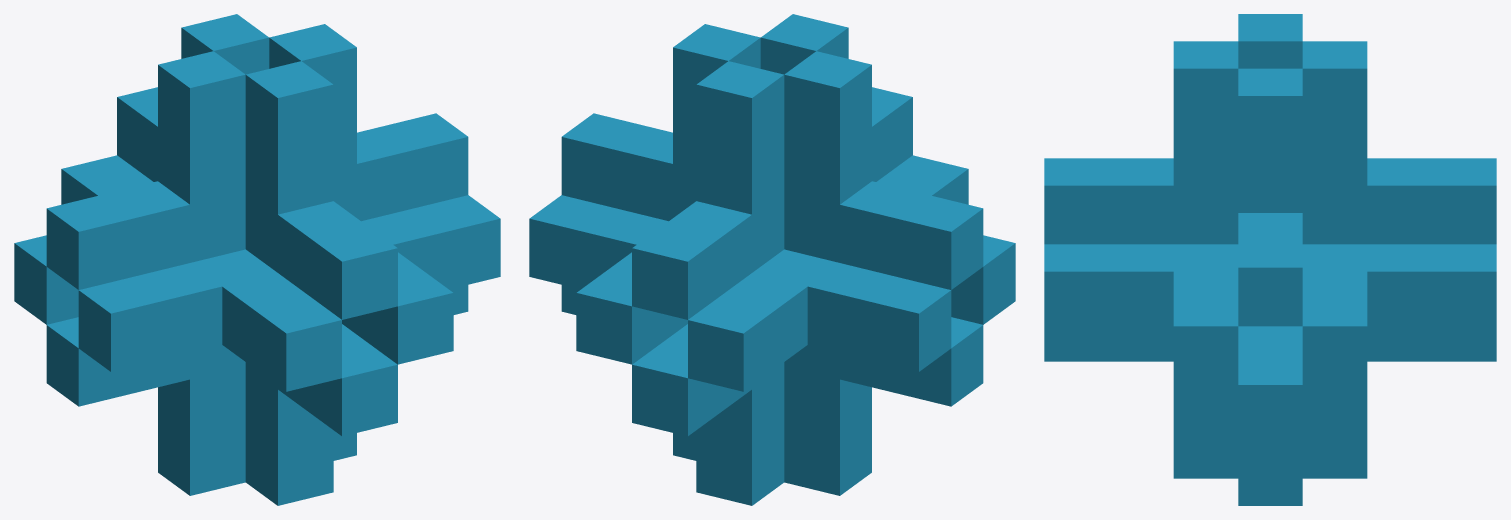
3 views of the same model, side by side, from view 1: azimuth 30°, elevation 25°; view 2: azimuth 150°, elevation 25°; view 3: azimuth 270°, elevation 25° (orthographic).
Visible parts, largest first — view 1: Cube_4, Cube_3_2, Cube_4_9, Cube_6, Cube_3_10, Cube_6_3, Cube_6_4, Cube_6_2, Cube_4_4, Cube_4_8, Cube_3_5, Cube_3_9 (+27 smaller); view 2: Cube_2, Cube_3_2, Cube_2_9, Cube_0, Cube_3_10, Cube_0_3, Cube_0_4, Cube_0_2, Cube_2_4, Cube_2_8, Cube_3_5, Cube_3_9 (+27 smaller); view 3: Cube_2_9, Cube_4_9, Cube_2_12, Cube_4_12, Cube_0_3, Cube_1_3, Cube_5_3, Cube_6_3, Cube_0_4, Cube_1_4, Cube_5_4, Cube_6_4 (+24 smaller).
Part boxes in pixels (x1,y1,x2,y2): Cube_4: [78, 276, 166, 371]; Cube_3_2: [46, 195, 134, 289]; Cube_4_9: [245, 61, 333, 156]; Cube_6: [254, 296, 341, 391]; Cube_3_10: [158, 51, 245, 146]; Cube_6_3: [310, 224, 397, 319]; Cube_6_4: [365, 269, 453, 364]; Cube_6_2: [310, 341, 397, 436]; Cube_4_4: [245, 424, 333, 505]; Cube_4_8: [245, 133, 333, 214]; Cube_3_5: [158, 414, 245, 495]; Cube_3_9: [158, 123, 245, 204]; Cube_2: [863, 276, 951, 371]; Cube_3_2: [895, 195, 983, 289]; Cube_2_9: [696, 61, 784, 156]; Cube_0: [688, 296, 775, 391]; Cube_3_10: [784, 51, 871, 146]; Cube_0_3: [632, 224, 719, 319]; Cube_0_4: [576, 269, 664, 364]; Cube_0_2: [632, 341, 719, 436]; Cube_2_4: [696, 424, 784, 505]; Cube_2_8: [696, 133, 784, 214]; Cube_3_5: [784, 414, 871, 495]; Cube_3_9: [784, 123, 871, 204]; Cube_2_9: [1302, 41, 1367, 127]; Cube_4_9: [1173, 41, 1238, 127]; Cube_2_12: [1302, 299, 1367, 384]; Cube_4_12: [1173, 299, 1238, 384]; Cube_0_3: [1432, 158, 1496, 244]; Cube_1_3: [1367, 158, 1431, 244]; Cube_5_3: [1109, 158, 1173, 244]; Cube_6_3: [1044, 158, 1108, 244]; Cube_0_4: [1432, 244, 1496, 330]; Cube_1_4: [1367, 244, 1431, 330]; Cube_5_4: [1109, 244, 1173, 330]; Cube_6_4: [1044, 244, 1108, 330].
Size of the model in its own units: 1050 by 1050 by 1050.
